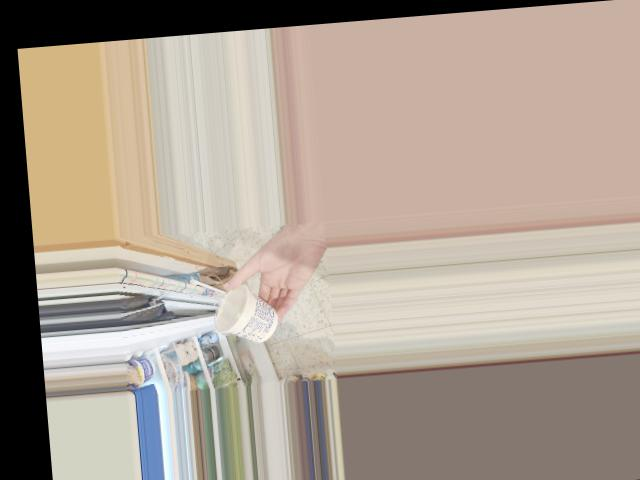cotage: (211, 278, 274, 344)
